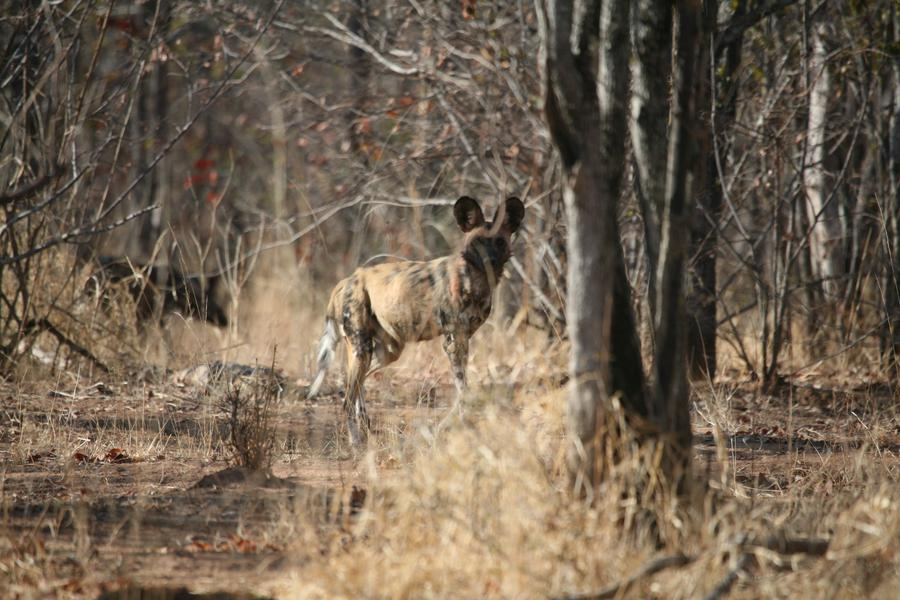wilddog: (326, 205, 508, 368)
